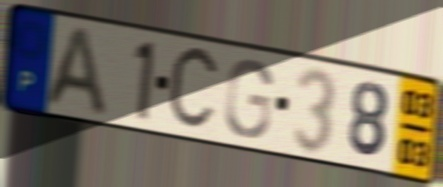1: (130, 38, 158, 124)
3: (291, 63, 341, 159)
8: (348, 79, 390, 160)
A: (40, 23, 110, 120)
C: (165, 42, 223, 136)
G: (222, 56, 275, 141)
